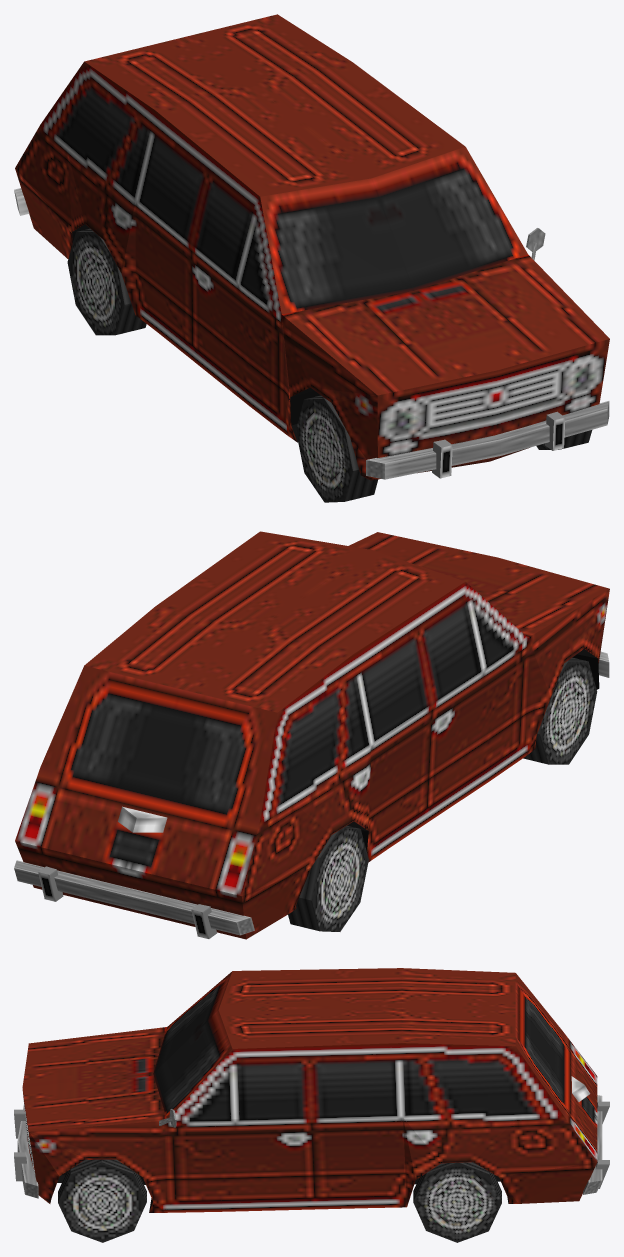
Rendered from Auto2rojo.fbx.
3 renders of one model, top to bottom at view 1: azimuth 30°, elevation 25°; view 2: azimuth 150°, elevation 25°; view 3: azimuth 270°, elevation 25°, orthographic. The views are drawn at different scales.
Parts seen in each view (by area): view 1: Car; view 2: Car; view 3: Car.
Part boxes in pixels (x1,y1,x2,y2): Car: (14, 14, 609, 502); Car: (14, 531, 609, 939); Car: (14, 968, 609, 1242).
Size of the model in its own units: 256 by 217 by 615.
1 material, 1 textured.
